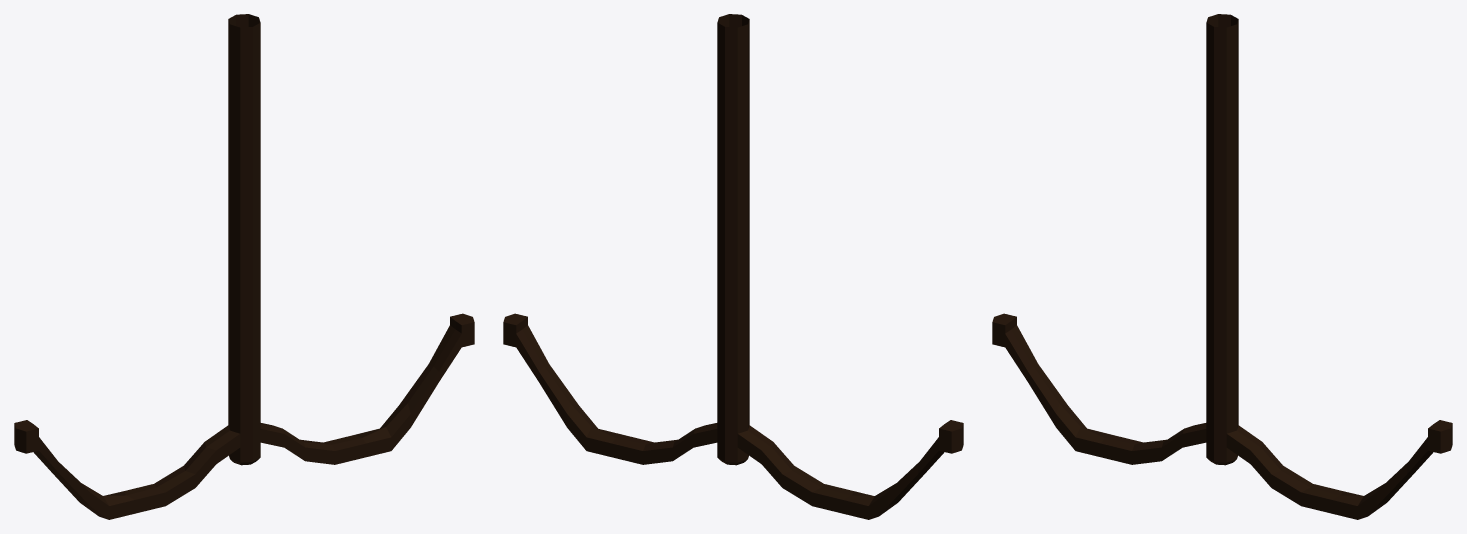
File: Chandelier.fbx
3 renders of one model, left to right at view 1: azimuth 30°, elevation 25°; view 2: azimuth 150°, elevation 25°; view 3: azimuth 330°, elevation 25°, orthographic.
Visible parts, largest first — view 1: Chandelier; view 2: Chandelier; view 3: Chandelier.
Boxes of the visible parts, left/top/right/bottom form: Chandelier: left=14, top=14, right=474, bottom=519; Chandelier: left=503, top=14, right=963, bottom=519; Chandelier: left=992, top=14, right=1452, bottom=519.
Size of the model in its own units: 0.3009 by 0.2898 by 0.019.
